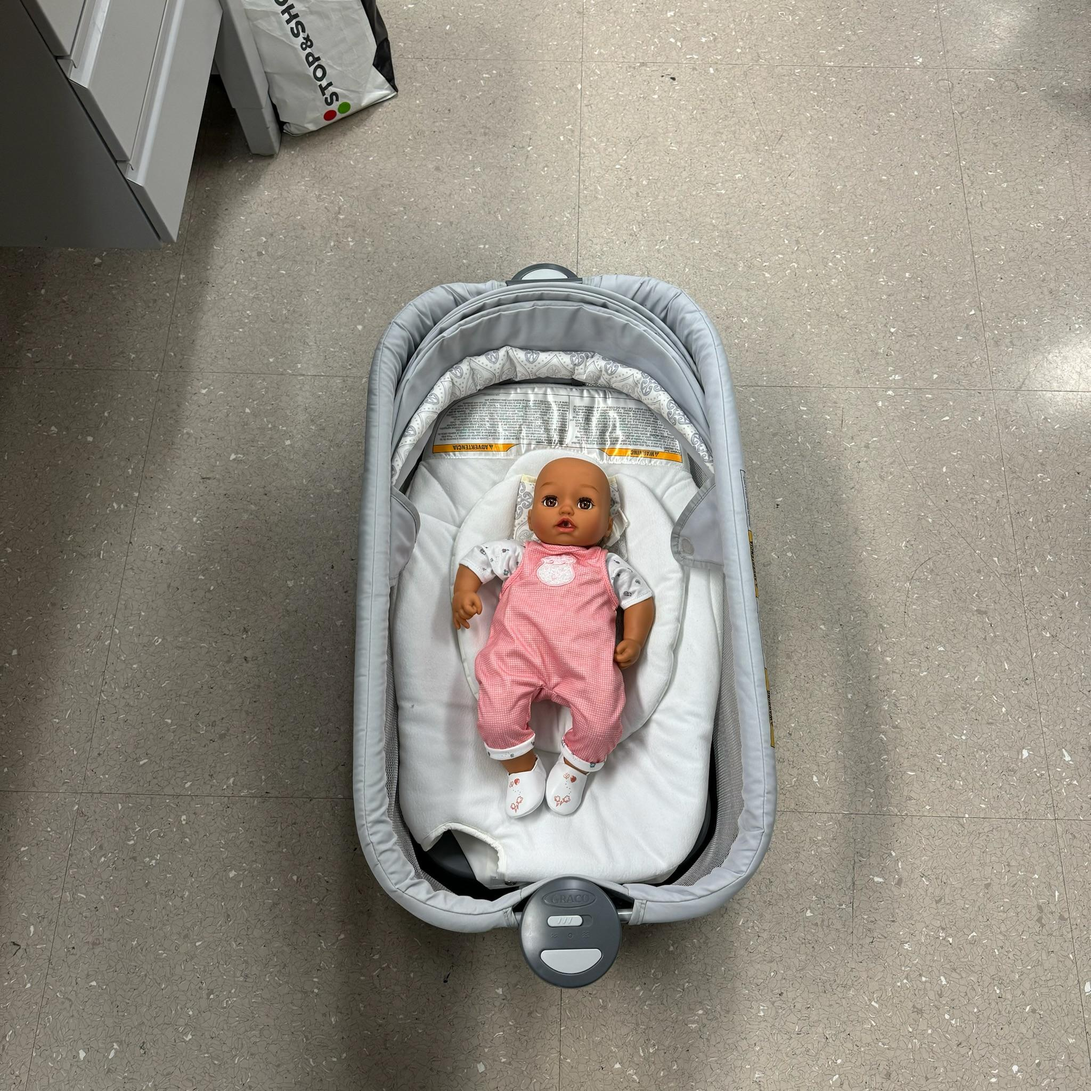baby: (448, 448, 662, 831)
